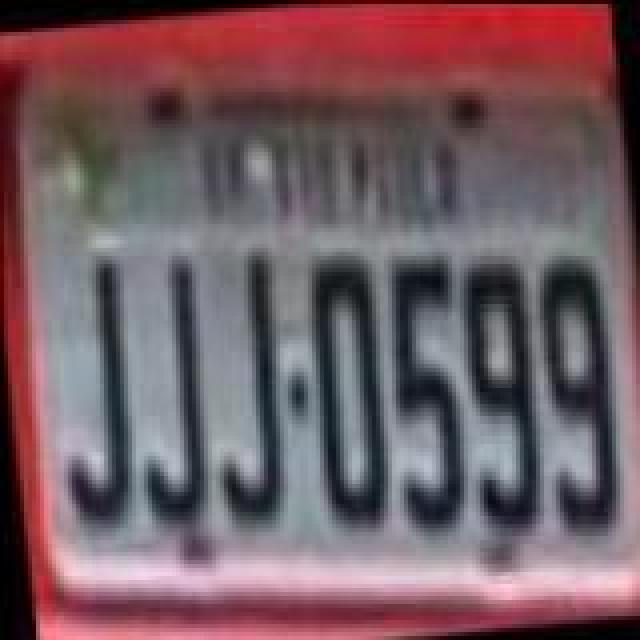5: (376, 244, 480, 536)
9: (522, 250, 622, 542), (450, 252, 550, 532)
J: (38, 248, 146, 528), (194, 246, 294, 530), (118, 252, 218, 528)
O: (296, 246, 400, 534)
